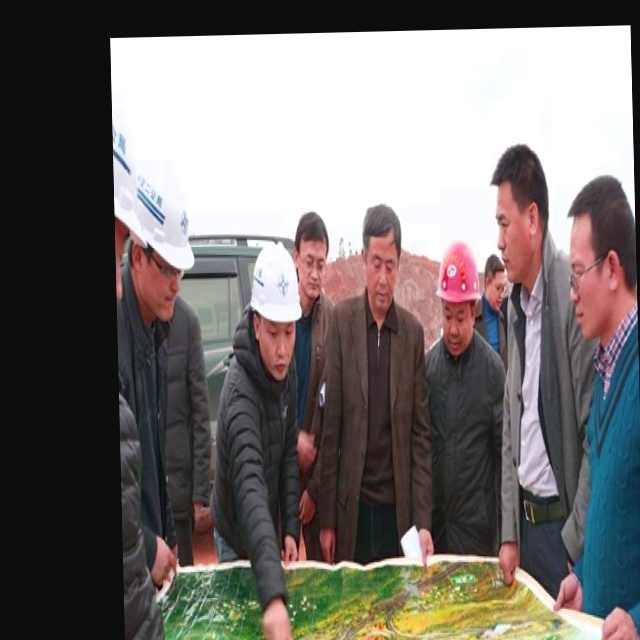Con_Casco: (251, 242, 302, 370), (437, 240, 483, 352)
Sin_Casco_Mascarrilla: (491, 148, 552, 278)
Sin_Chaleco: (330, 298, 429, 558)
